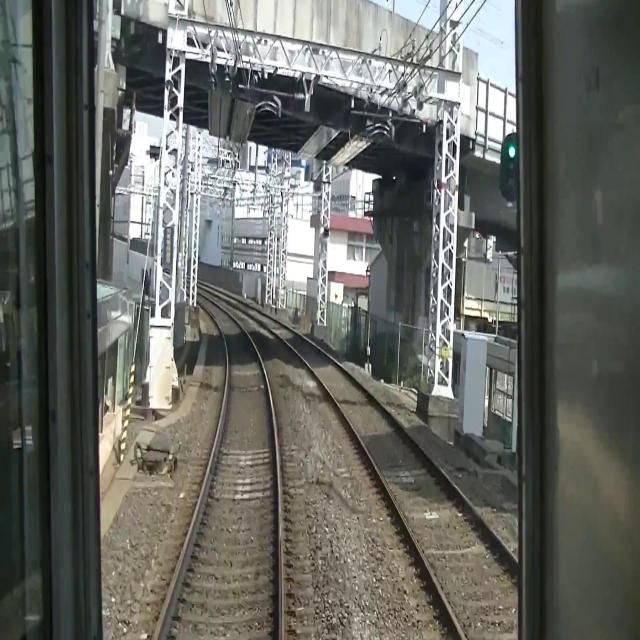rail-track: (206, 287, 516, 639), (172, 293, 278, 639)
